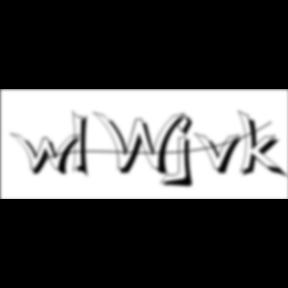W: (93, 110, 191, 178)
j: (174, 113, 200, 191)
k: (238, 108, 288, 181)
l: (73, 108, 96, 182)
v: (195, 131, 249, 177)
w: (10, 132, 88, 178)
